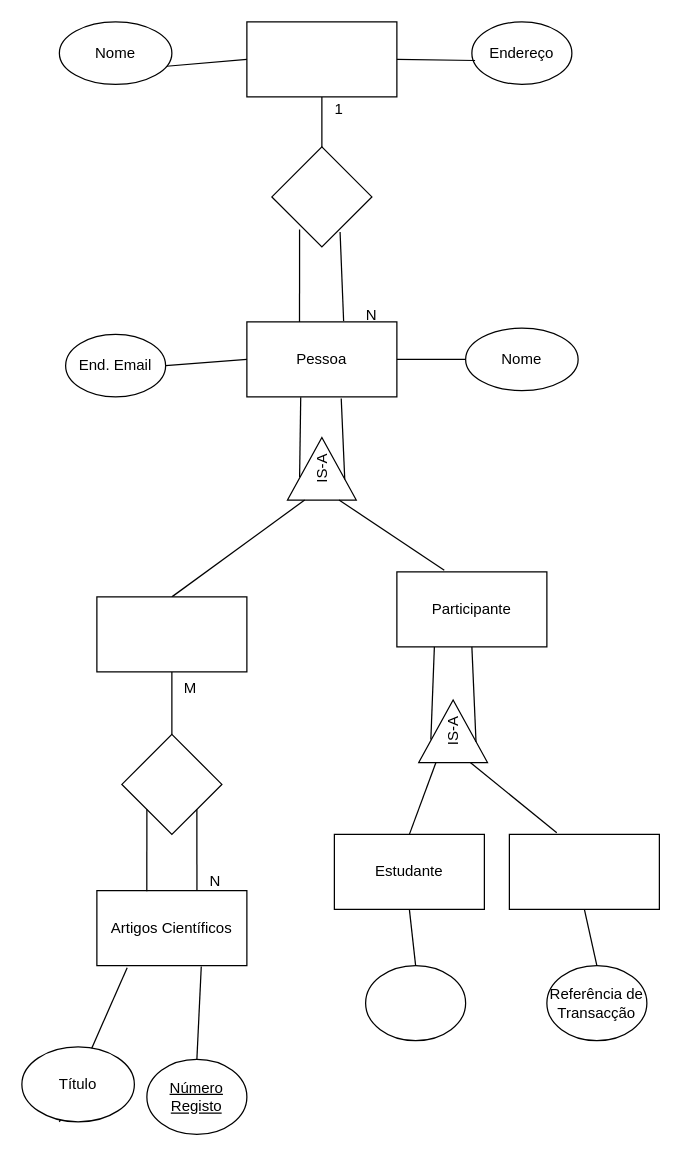
This 681x1156 diagram has some shape labels left out. The shapes that lost their labels are listed below. From the top down, each one's centre as x and y in pixels, then its label:
At (x=321, y=59): "Instituição".
At (x=321, y=196): "Pertence".
At (x=171, y=634): "Autor".
At (x=171, y=783): "Escreve".
At (x=583, y=871): "Não Estudante".
At (x=415, y=1002): "Localização Eletrónica".
